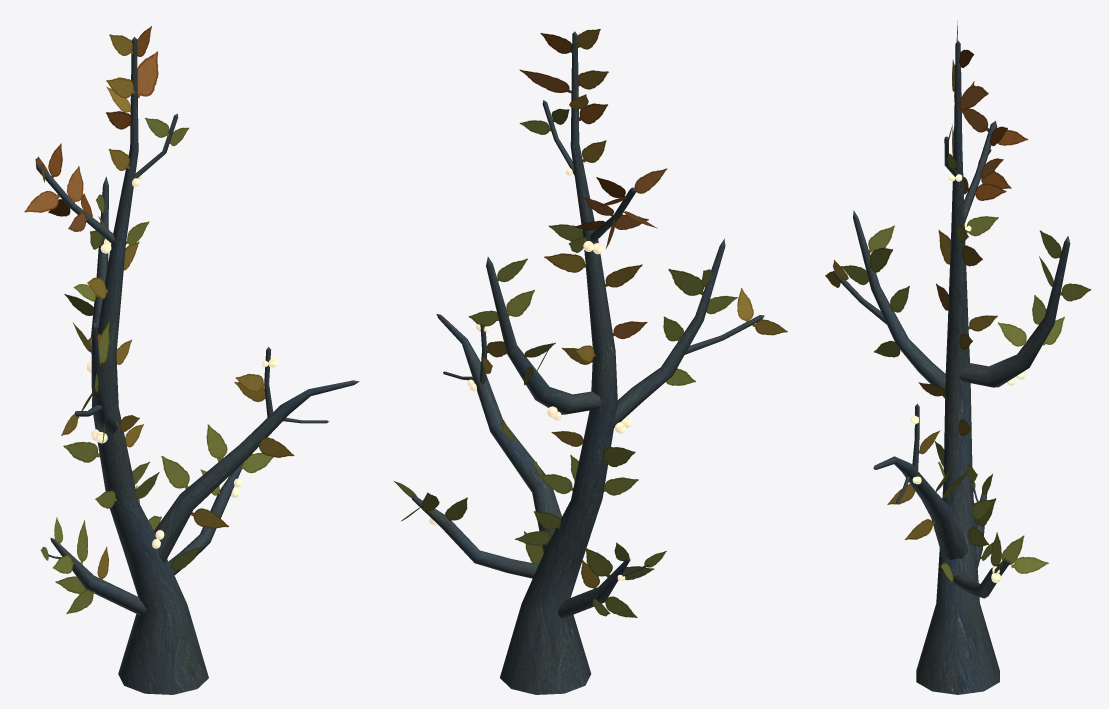
File: Bush03.glb
3 views of the same model, side by side, from view 1: azimuth 30°, elevation 25°; view 2: azimuth 150°, elevation 25°; view 3: azimuth 270°, elevation 25° (orthographic). The views are drawn at different scales.
Visible parts, largest first — view 1: Bush03; view 2: Bush03; view 3: Bush03.
Boxes of the visible parts, box(x1,y1,x2,y2) form: Bush03: box(24, 26, 359, 694); Bush03: box(393, 29, 787, 694); Bush03: box(825, 21, 1091, 694).
Size of the model in its own units: 1.29 by 2.51 by 0.9727.
3 materials, 3 textured.
